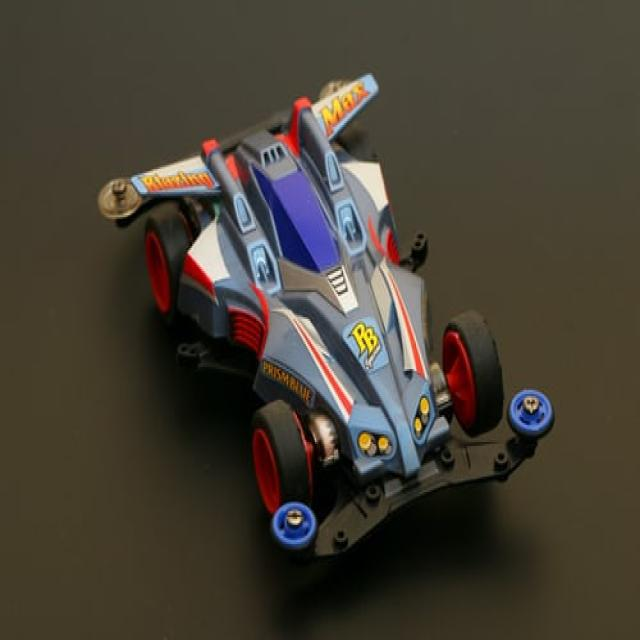Car: (96, 71, 554, 561)
